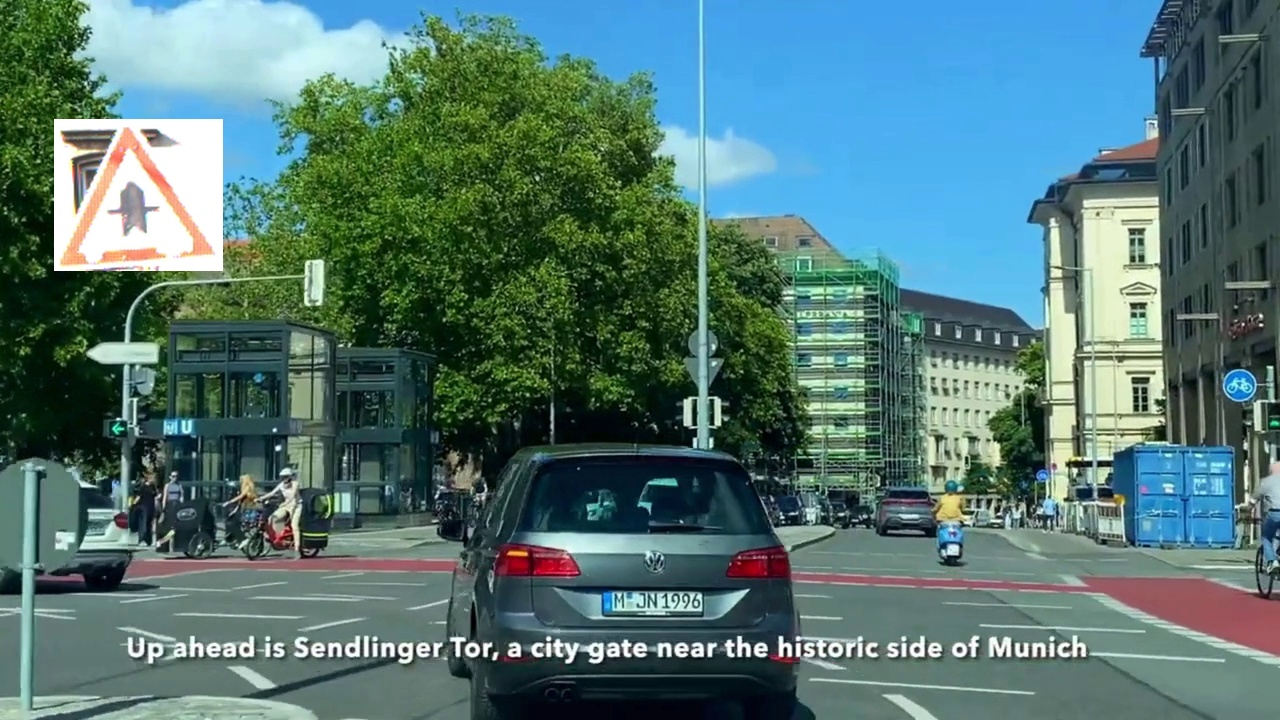Right-of-way: (54, 119, 223, 271)
